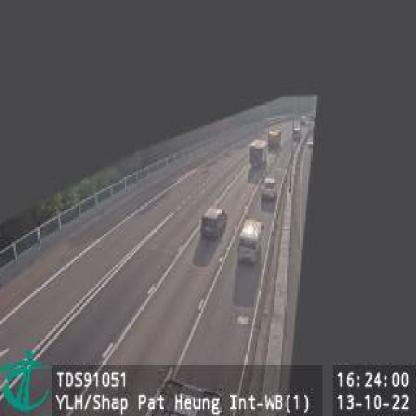Car: (236, 219, 264, 264), (201, 203, 229, 239), (260, 176, 277, 204)
Truck: (248, 137, 268, 170), (268, 127, 280, 151)
